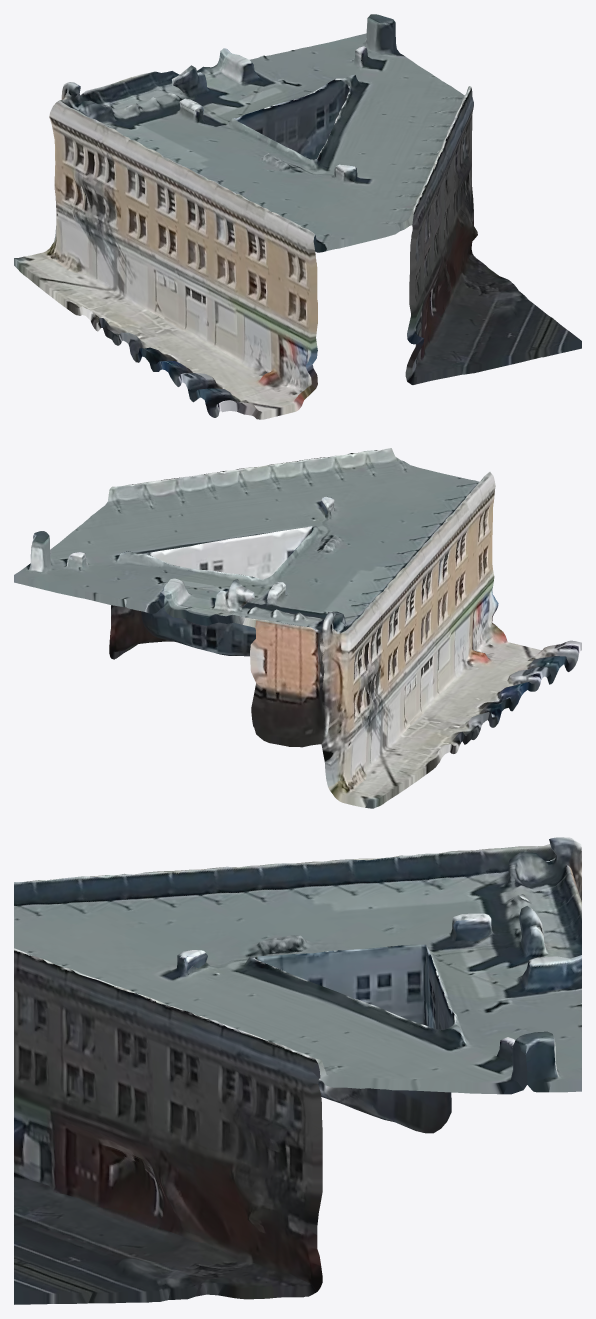
The model's file is z20-167730-405193-h0-yup-uvflip-v3-world.glb.
3 views of the same model, one above another, from view 1: azimuth 30°, elevation 25°; view 2: azimuth 150°, elevation 25°; view 3: azimuth 270°, elevation 25° (orthographic). The views are drawn at different scales.
Size of the model in its own units: 30.16 by 15.6 by 30.32.
Materials: 1 (1 with a texture image).
